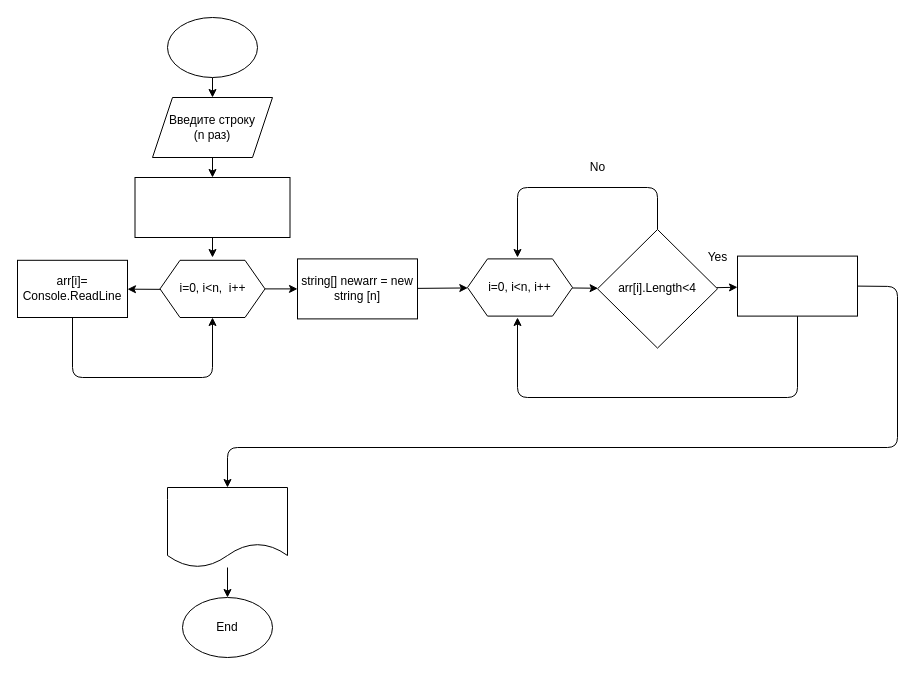
This 923x675 diagram has some shape labels left out. The centre of each missing label's shape, as x and y in pixels:
"newarr[j]= arr[i] j++" belongs at point (797, 285).
"Output [arr] -> [newarr]" belongs at point (227, 527).
"Start" belongs at point (212, 47).
"string[] arr = new string [n]" belongs at point (212, 207).
